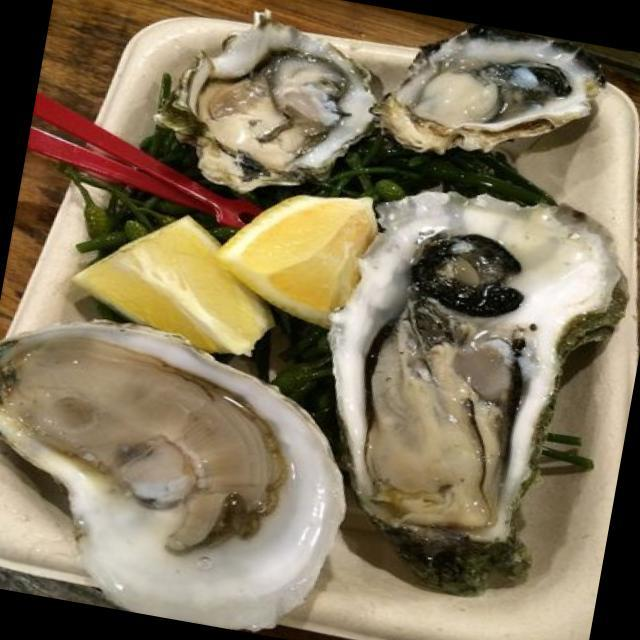Oyster-Open: (296, 168, 640, 606), (0, 295, 365, 640), (141, 0, 396, 210), (364, 7, 615, 187)
